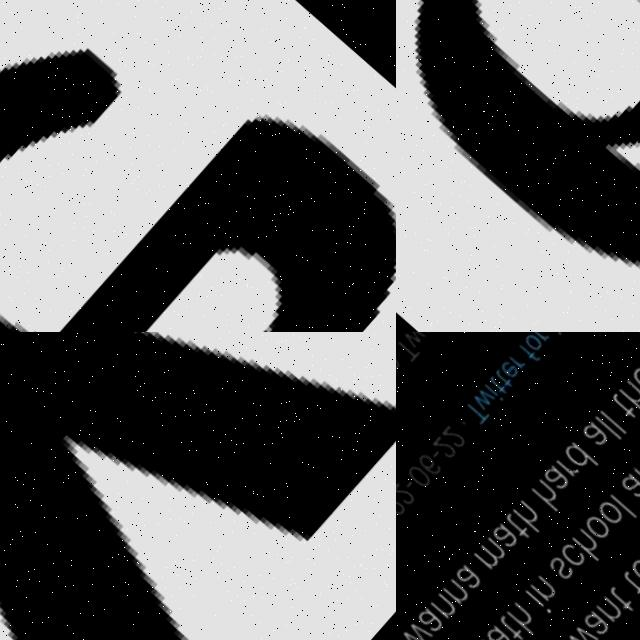2: (414, 451, 442, 481)
6: (396, 0, 640, 332)
A: (486, 522, 520, 558), (538, 466, 570, 499), (578, 423, 610, 456), (413, 605, 444, 639), (452, 563, 482, 595), (578, 611, 609, 640), (616, 475, 640, 507), (480, 623, 512, 640)
C: (554, 543, 586, 576)
D: (560, 442, 598, 482)
E: (61, 123, 396, 332), (497, 359, 521, 384), (628, 368, 640, 401), (410, 332, 436, 340), (396, 349, 403, 377)
F: (516, 344, 541, 371)
H: (568, 529, 604, 567), (504, 603, 540, 640), (510, 500, 546, 537), (529, 481, 564, 517), (617, 382, 640, 420)
I: (521, 590, 551, 622), (482, 383, 505, 407), (541, 332, 562, 342)
L: (606, 496, 637, 528), (591, 417, 622, 449), (597, 413, 625, 442)
M: (469, 536, 507, 576)
N: (425, 590, 457, 624), (591, 597, 622, 630), (439, 577, 470, 610), (526, 576, 556, 608), (629, 460, 640, 493)
O: (591, 500, 625, 536), (581, 517, 610, 547), (520, 333, 545, 359), (623, 558, 640, 593)
R: (553, 456, 580, 484), (506, 354, 526, 376), (529, 332, 550, 348)
S: (544, 557, 573, 588)
T: (499, 512, 532, 547), (607, 394, 638, 428), (603, 588, 634, 621), (460, 400, 490, 431), (615, 572, 640, 606), (492, 614, 523, 640), (396, 335, 421, 366), (485, 376, 509, 401), (490, 370, 514, 394)
V: (0, 332, 396, 640)
W: (396, 619, 431, 640), (470, 389, 495, 416), (559, 623, 597, 640), (401, 332, 426, 351)
